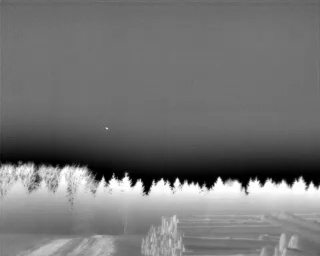AIRPLANE: (104, 125, 110, 132)
